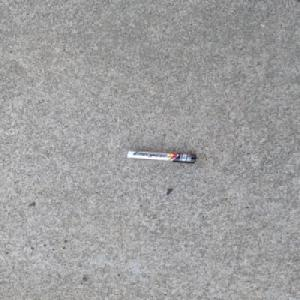Battery: (124, 149, 198, 164)
